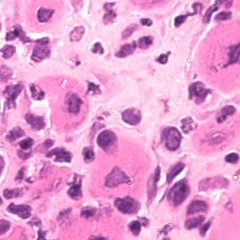New: (188, 15, 240, 97), (88, 142, 151, 200), (35, 74, 91, 135), (55, 208, 124, 240), (20, 1, 72, 36)
